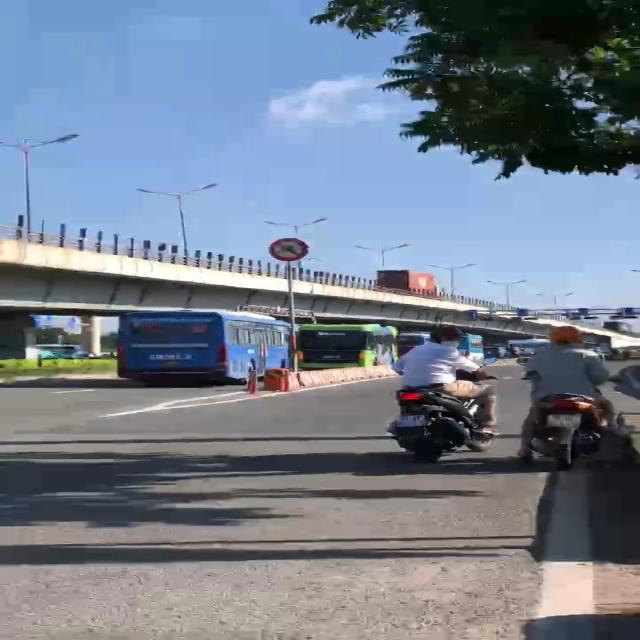Bien bao cam xe may: (270, 237, 312, 263)
